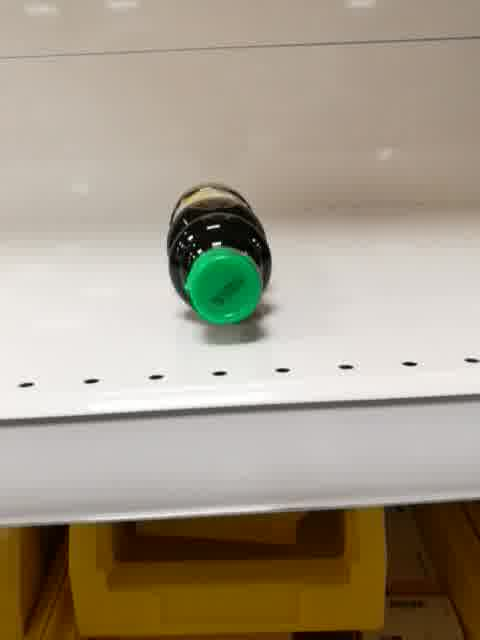cookingoil: (164, 179, 276, 328)
